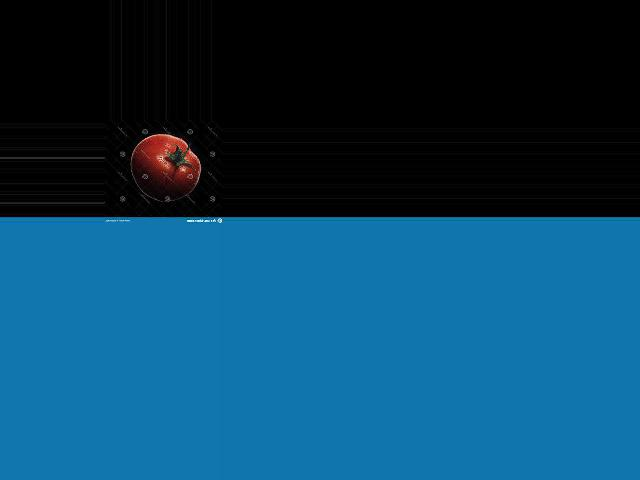tomato: (129, 134, 200, 201)
